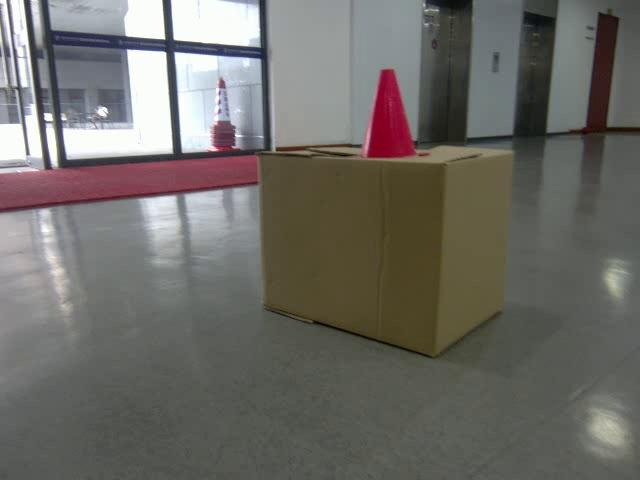red_barrel: (358, 67, 424, 159)
